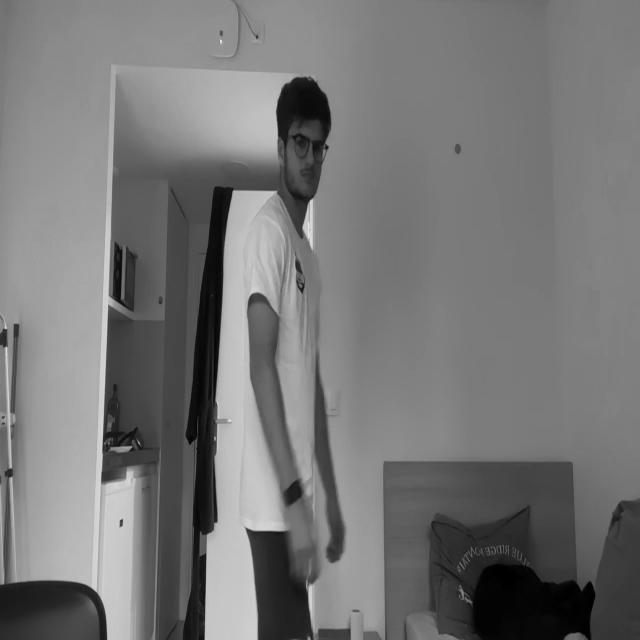elbow: (244, 339, 278, 396)
hand: (286, 518, 323, 584), (326, 502, 346, 566)
shoulder: (244, 210, 282, 280)
